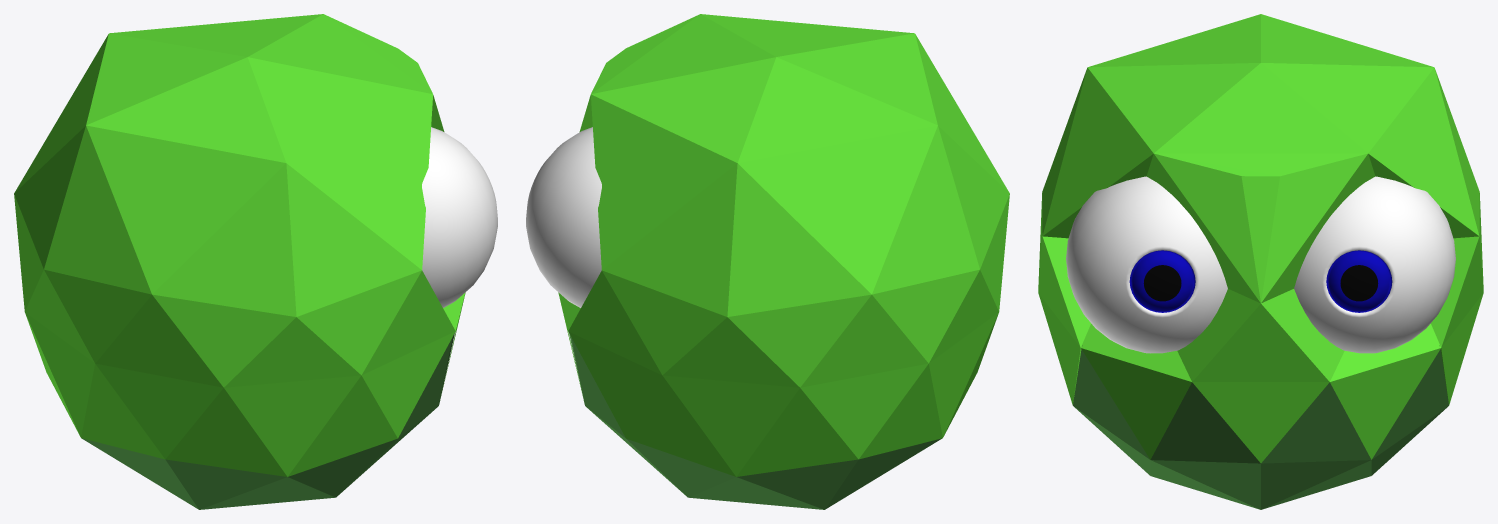
Rendered from NessieBall.dae.
3 views of the same model, side by side, from view 1: azimuth 30°, elevation 25°; view 2: azimuth 150°, elevation 25°; view 3: azimuth 270°, elevation 25° (orthographic). The views are drawn at different scales.
Visible parts, largest first — view 1: NessieHead, NessieJaw, NessieEyeballRight; view 2: NessieHead, NessieJaw, NessieEyeballLeft; view 3: NessieHead, NessieJaw, NessieEyeballLeft, NessieEyeballRight.
Part boxes in pixels (x1,y1,x2,y2): NessieHead: (14, 14, 465, 476); NessieJaw: (82, 333, 454, 509); NessieEyeballRight: (422, 127, 497, 307); NessieHead: (558, 14, 1009, 476); NessieJaw: (569, 333, 941, 509); NessieEyeballLeft: (526, 127, 601, 307); NessieHead: (1038, 14, 1483, 462); NessieJaw: (1073, 345, 1448, 509); NessieEyeballLeft: (1294, 176, 1455, 353); NessieEyeballRight: (1066, 176, 1227, 353).
Bounding box in the file's own units: 2.08 × 2.01 × 2.13.
